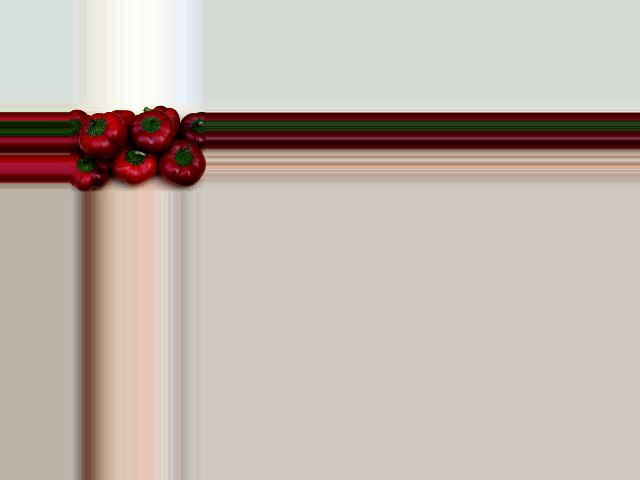bell_pepper: (116, 107, 135, 126)
